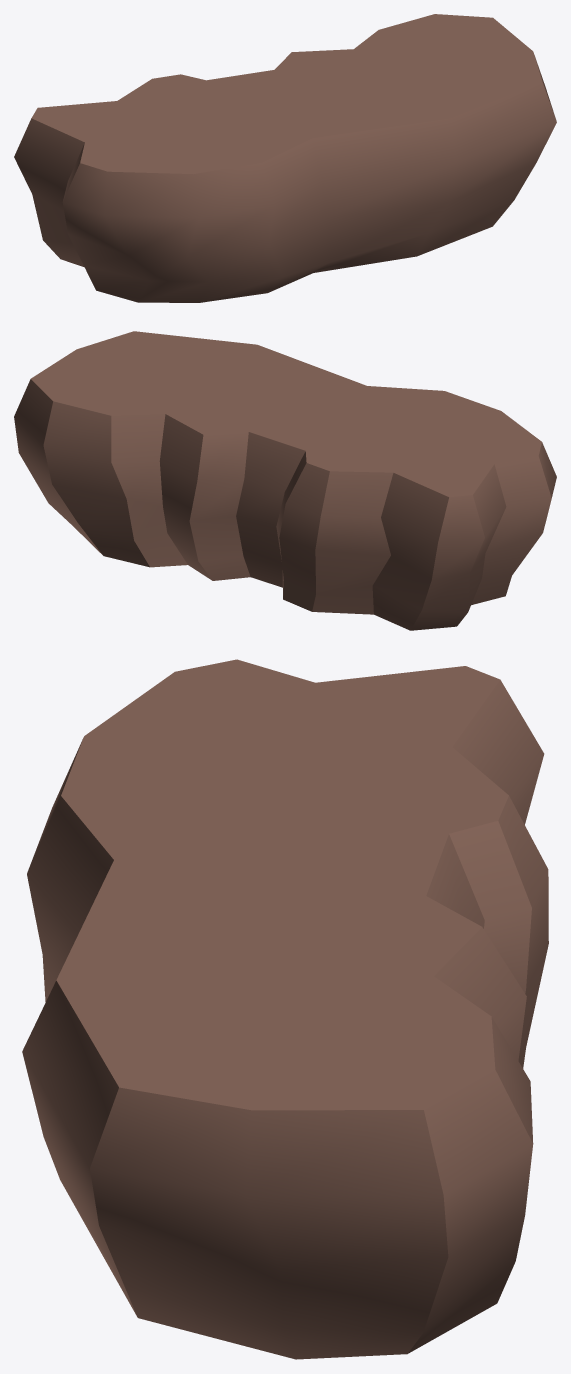
Rendered from short_cliff_no_grass.fbx.
3 renders of one model, top to bottom at view 1: azimuth 30°, elevation 25°; view 2: azimuth 150°, elevation 25°; view 3: azimuth 270°, elevation 25°, orthographic. The views are drawn at different scales.
Visible parts, largest first — view 1: short_cliff; view 2: short_cliff; view 3: short_cliff.
Part boxes in pixels (x1,y1,x2,y2): short_cliff: [14, 14, 556, 302]; short_cliff: [14, 331, 556, 630]; short_cliff: [22, 659, 548, 1359].
Size of the model in its own units: 2498 by 704 by 1171.
